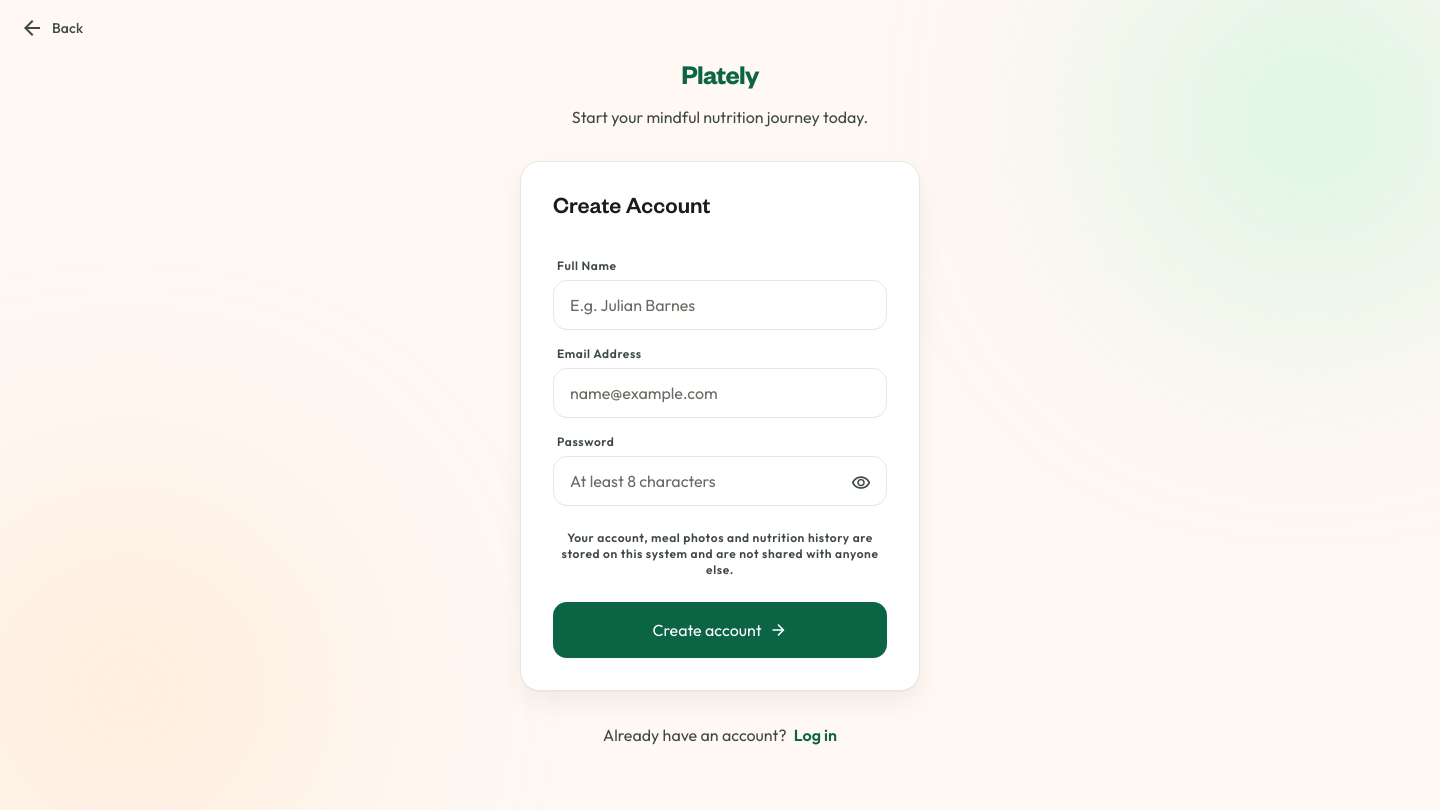
Signup › shows the server's message when the email is taken
Type "Ada Lovelace" into the field labelled "Full Name" at (720, 305), box [553,280,887,330]
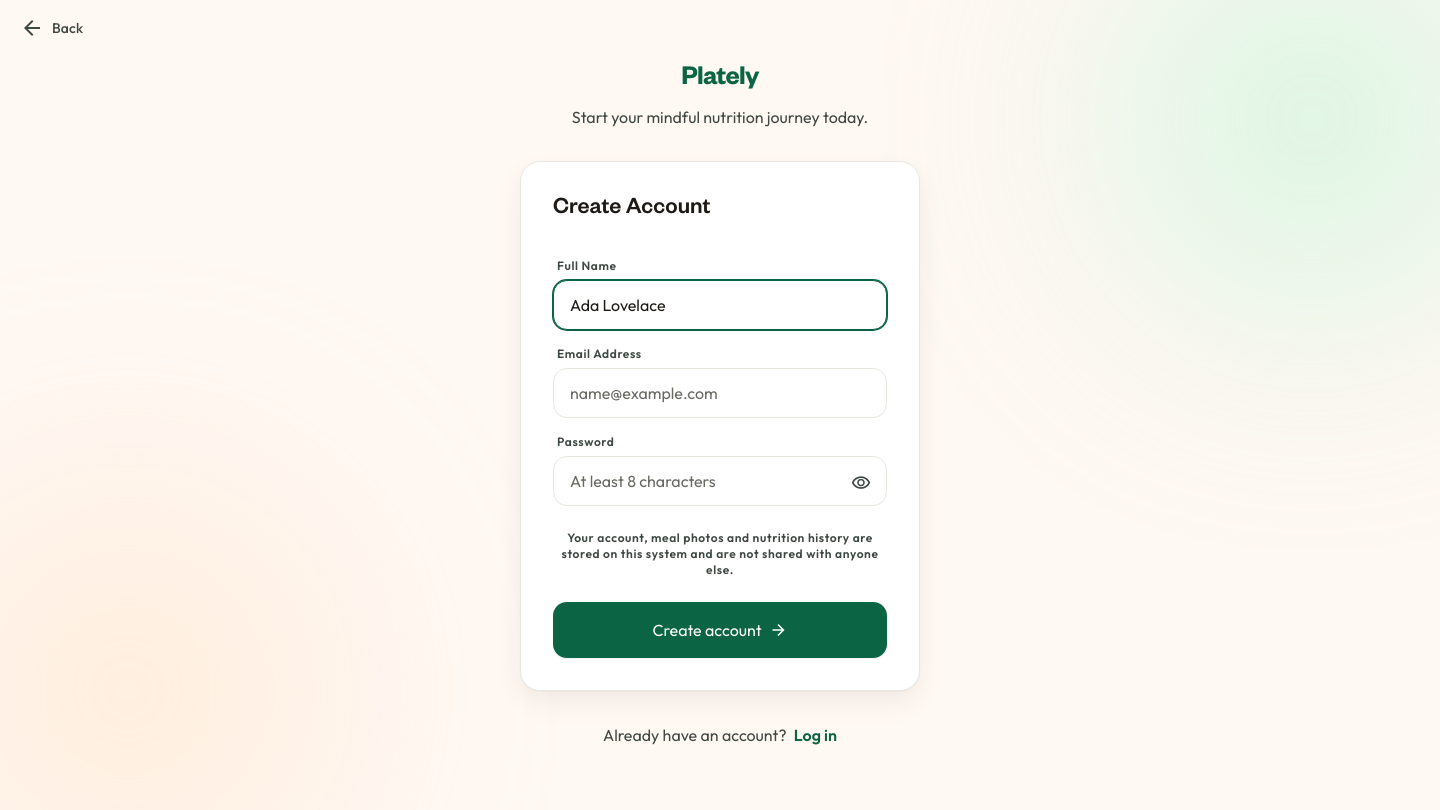
Type "ada@example.com" into the field labelled "Email Address" at (720, 393), box [553,368,887,418]
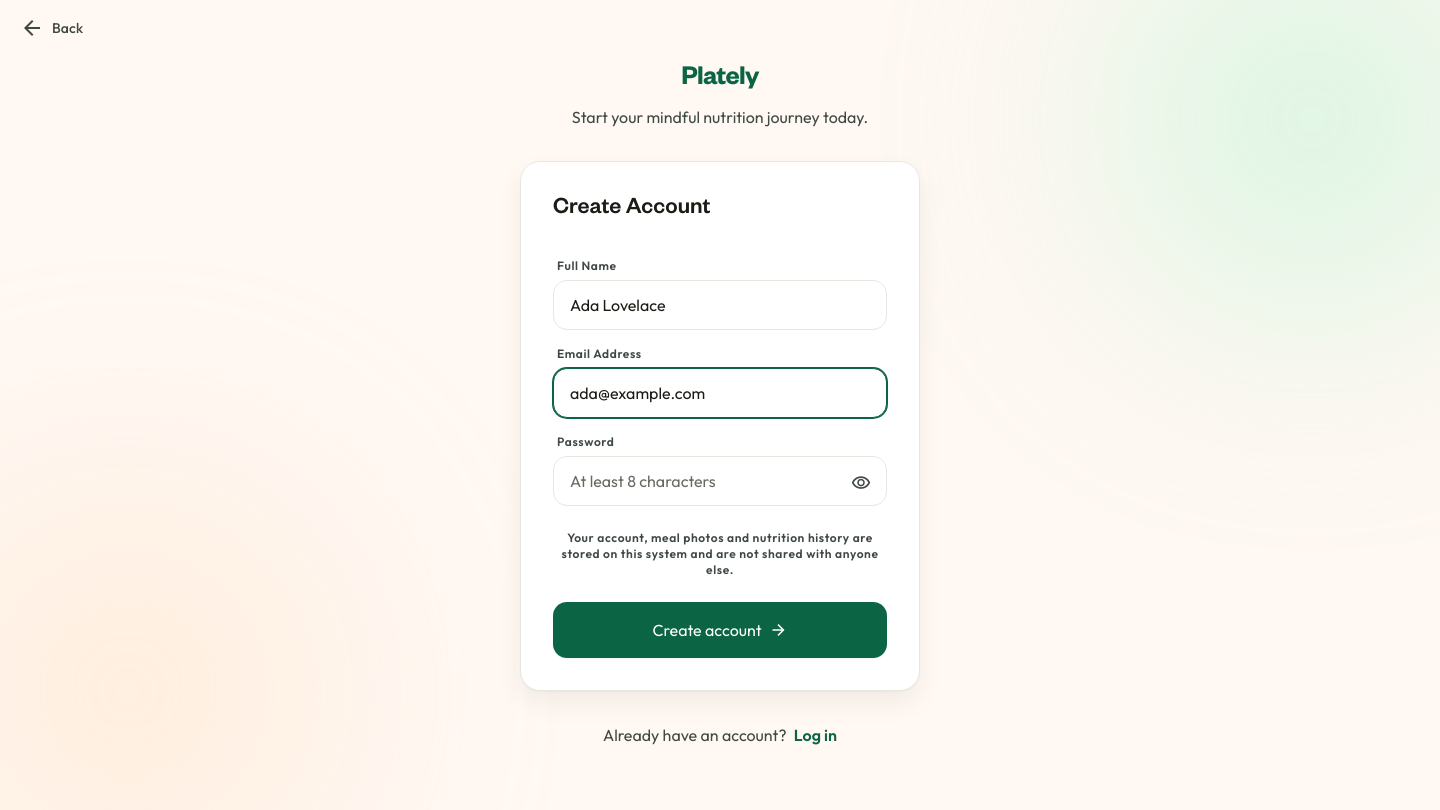
Type "hunter22" into the password field labelled "Password" at (720, 481), box [553,456,887,506]
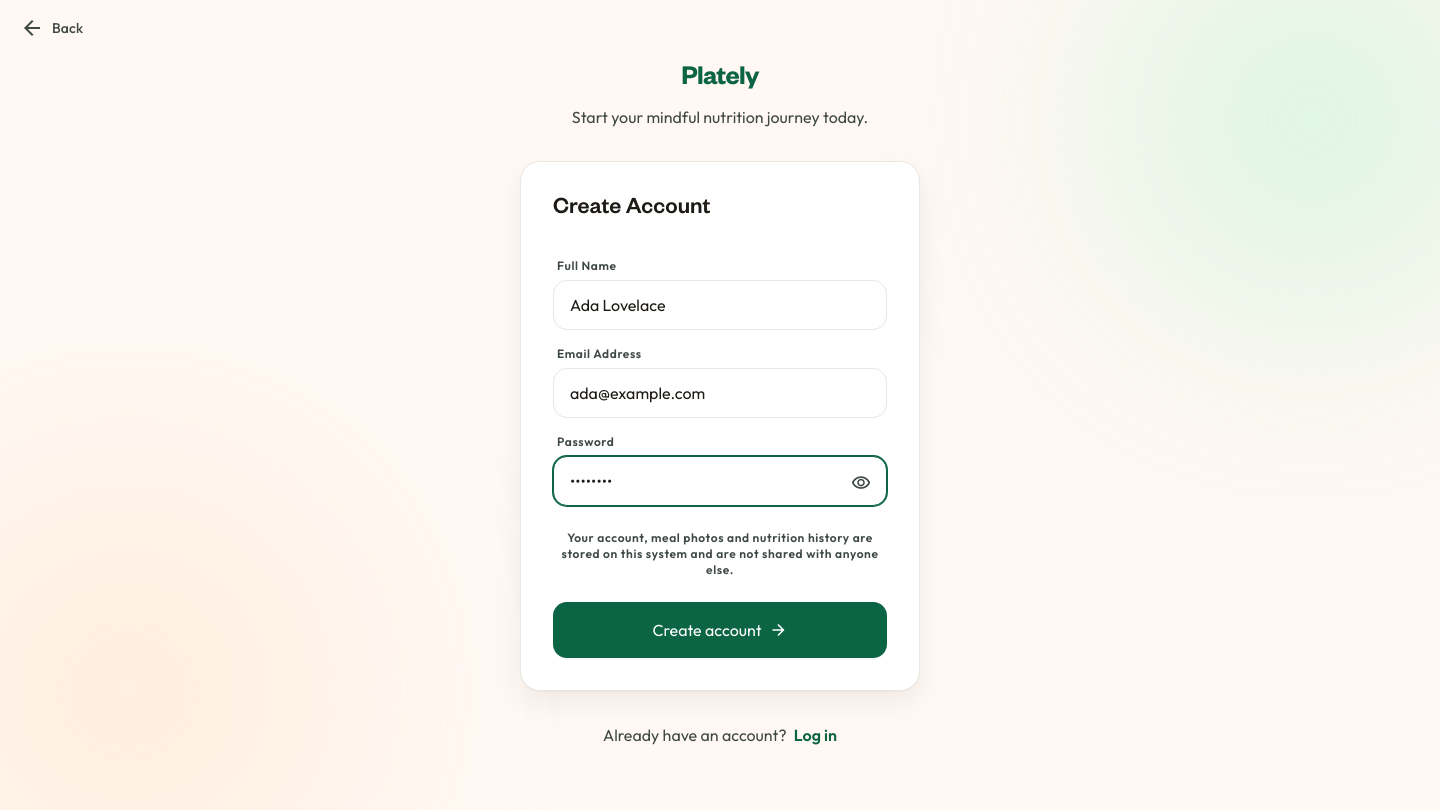
Click the button "Create account" at (720, 630), box [553,602,887,658]
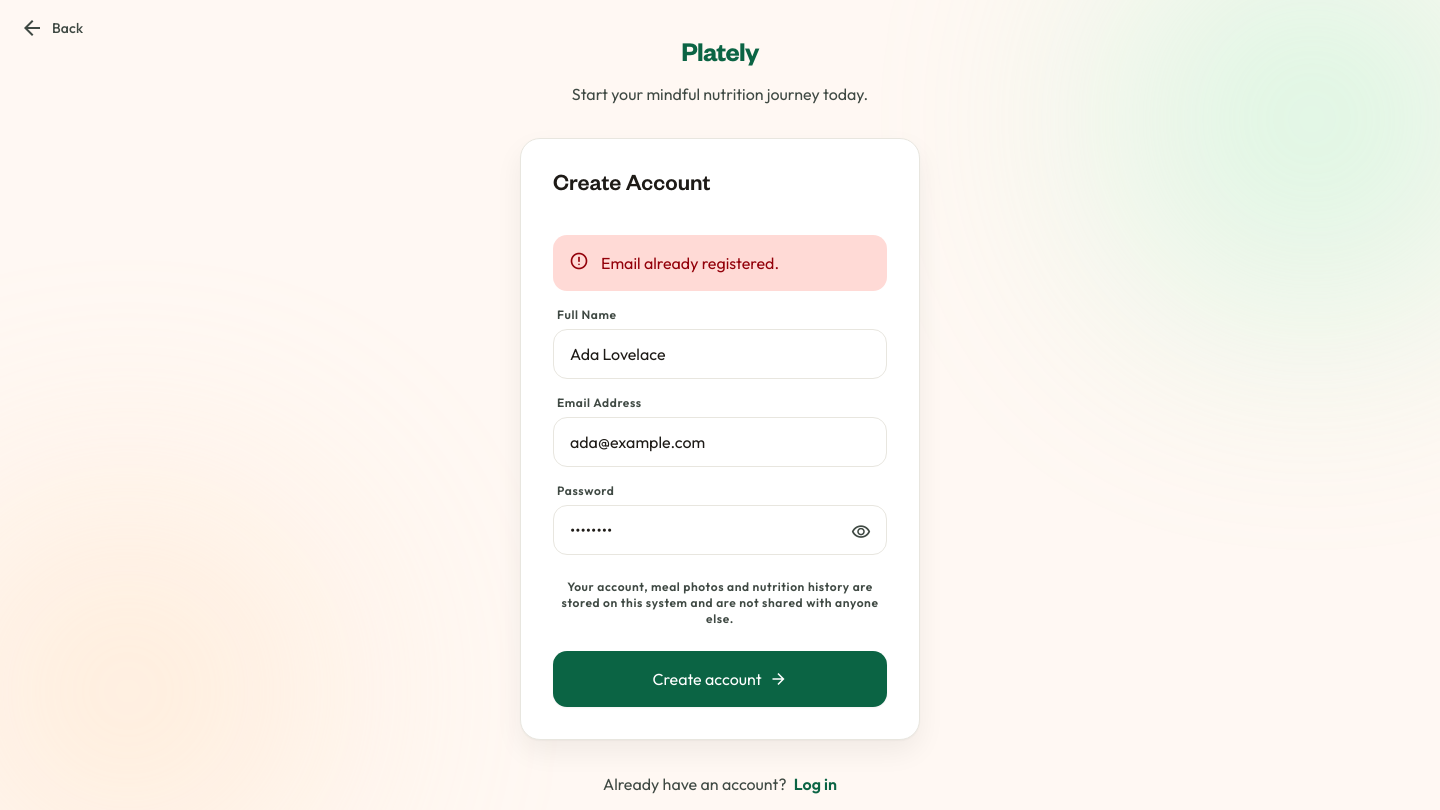
Now the message reads "Email already registered.", box [601,253,779,273]
